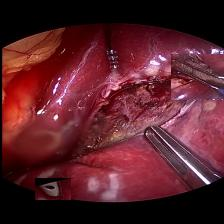Bipolar: (170, 54, 224, 100)
Grasper: (132, 124, 224, 186)
Irrigator: (34, 178, 70, 200)
